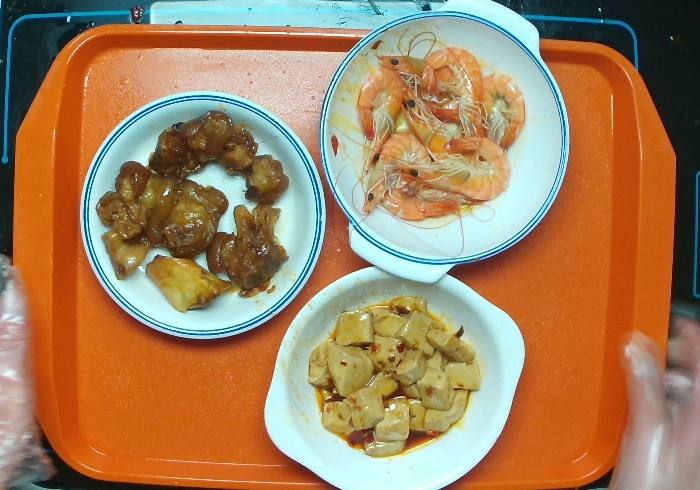HZYJPL-Dai_Er_Bai_Yuan_Wan: (263, 262, 529, 490)
HZYJPL-Lan_Bian_Dai_Er_Wan: (315, 1, 575, 291)
HZYJPL-Lan_Bian_Yuan_Die: (74, 86, 332, 342)
